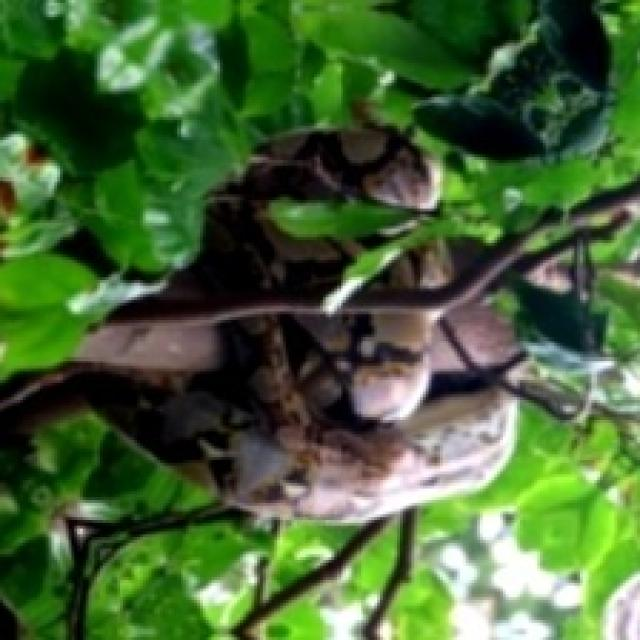reticulated python: (0, 129, 637, 520)
